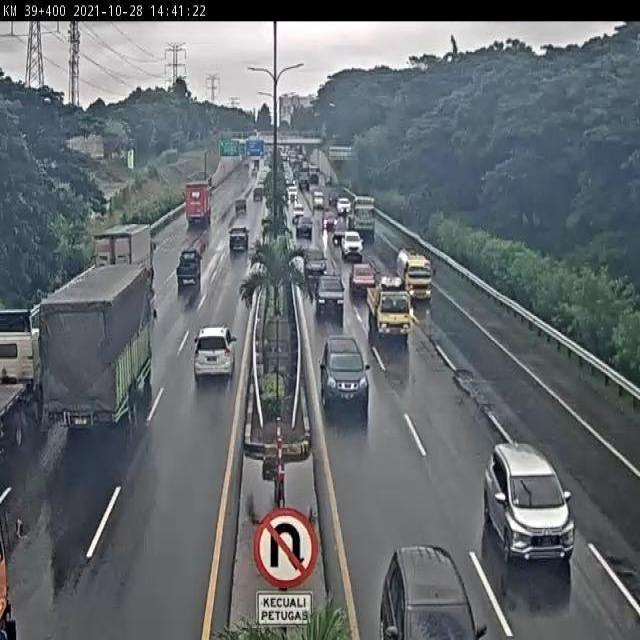car: (485, 441, 575, 560), (321, 337, 370, 404), (193, 324, 235, 381), (314, 271, 347, 313), (174, 246, 203, 286), (348, 261, 377, 295), (302, 244, 326, 275), (227, 224, 249, 252)
mid truck: (22, 270, 151, 450), (83, 226, 152, 302)
truck-m-: (367, 278, 411, 342), (398, 248, 435, 301)
